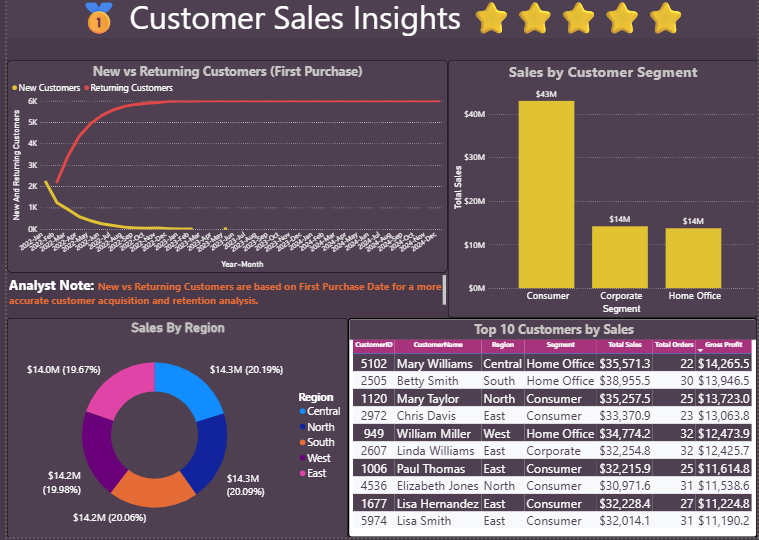

The dashboard page shown, as its layout file describes it:
{"tool":"powerbi","page":{"name":"Customer Insights","canvas":[1800,1300],"ordinal":2},"visuals":[{"type":"clusteredColumnChart","title":"Sales by Customer Segment","fields":{"Category":["dim_customers.Segment"],"Y":["_Measures.Total Sales"]},"box":[1056.9,155.9,742.5,618.3],"z":0},{"type":"donutChart","title":"Sales By Region","fields":{"Category":["dim_customers.Region"],"Y":["_Measures.Total Sales"]},"box":[0,773.9,818,526.5],"z":1000},{"type":"tableEx","title":"Top 10 Customers by Sales","fields":{"Values":["dim_customers.CustomerID","dim_customers.CustomerName","dim_customers.Region","dim_customers.Segment","_Measures.Total Sales","_Measures.Total Orders","_Measures.Gross Profit"]},"box":[818,773.9,982,526.5],"z":2000},{"type":"lineChart","title":"New vs Returning Customers (First Purchase)","fields":{"Category":["dim_date.Year-Month"],"Y":["_Measures.New Customers","_Measures.Returning Customers"]},"box":[0,155.9,1056.9,510],"z":3000},{"type":"textbox","box":[0,666.1,1058,83.3],"z":4000},{"type":"textbox","title":"🥇 Customer Sales Insights ⭐⭐⭐⭐⭐","box":[0,0,1800,102.9],"z":5000}]}

Visuals, with their boxes in screenshot pixels (x1, y1, x2, y2), scaled from the page's 1800x1300 canvas onto the 759x540 screenshot:
"Sales by Customer Segment" clusteredColumnChart: <bbox>446, 65, 758, 322</bbox>
"Sales By Region" donutChart: <bbox>0, 321, 345, 539</bbox>
"Top 10 Customers by Sales" tableEx: <bbox>345, 321, 758, 539</bbox>
"New vs Returning Customers (First Purchase)" lineChart: <bbox>0, 65, 446, 277</bbox>
textbox: <bbox>0, 277, 446, 311</bbox>
"🥇 Customer Sales Insights ⭐⭐⭐⭐⭐" textbox: <bbox>0, 0, 758, 43</bbox>
